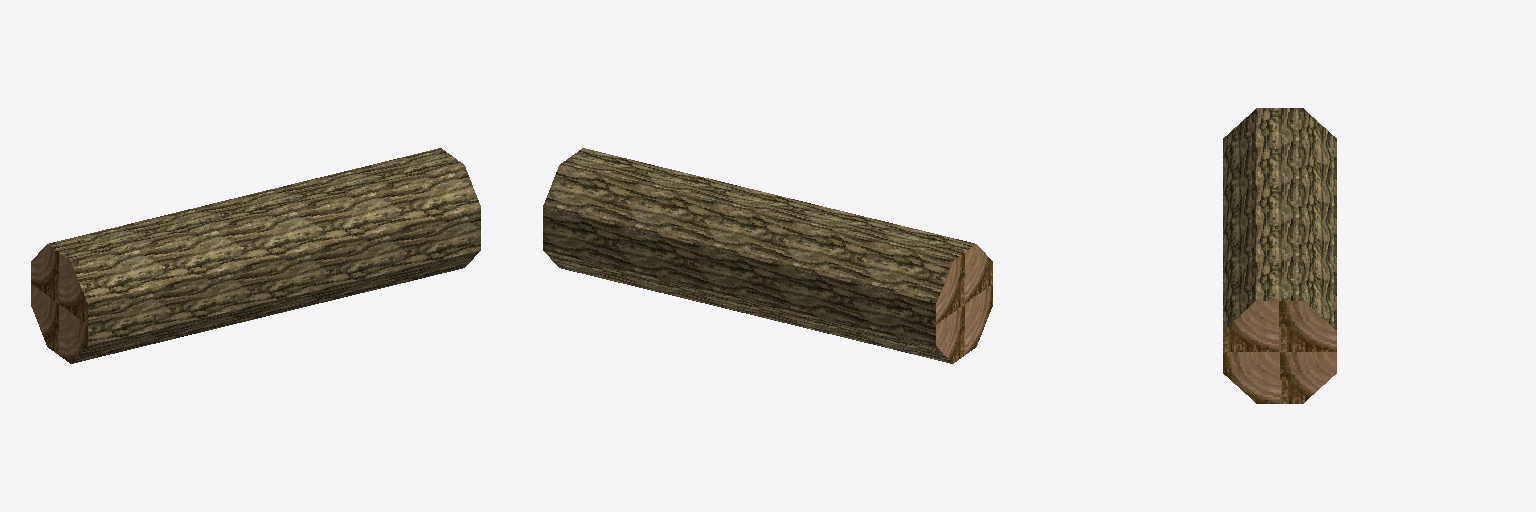
The picture shows the model from 3 angles: view 1: azimuth 30°, elevation 25°; view 2: azimuth 150°, elevation 25°; view 3: azimuth 270°, elevation 25°; orthographic projection.
Parts seen in each view (by area): view 1: world_root; view 2: world_root; view 3: world_root.
Boxes of the visible parts, x1=… form: world_root: x1=31, y1=148, x2=480, y2=363; world_root: x1=543, y1=148, x2=992, y2=363; world_root: x1=1223, y1=108, x2=1336, y2=403.
Size of the model in its own units: 250 by 62.48 by 62.48.
2 materials, 2 textured.